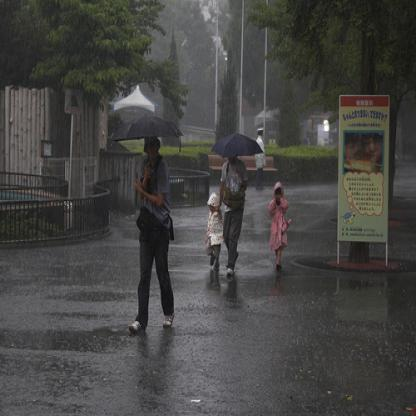handbag: (222, 160, 246, 210)
